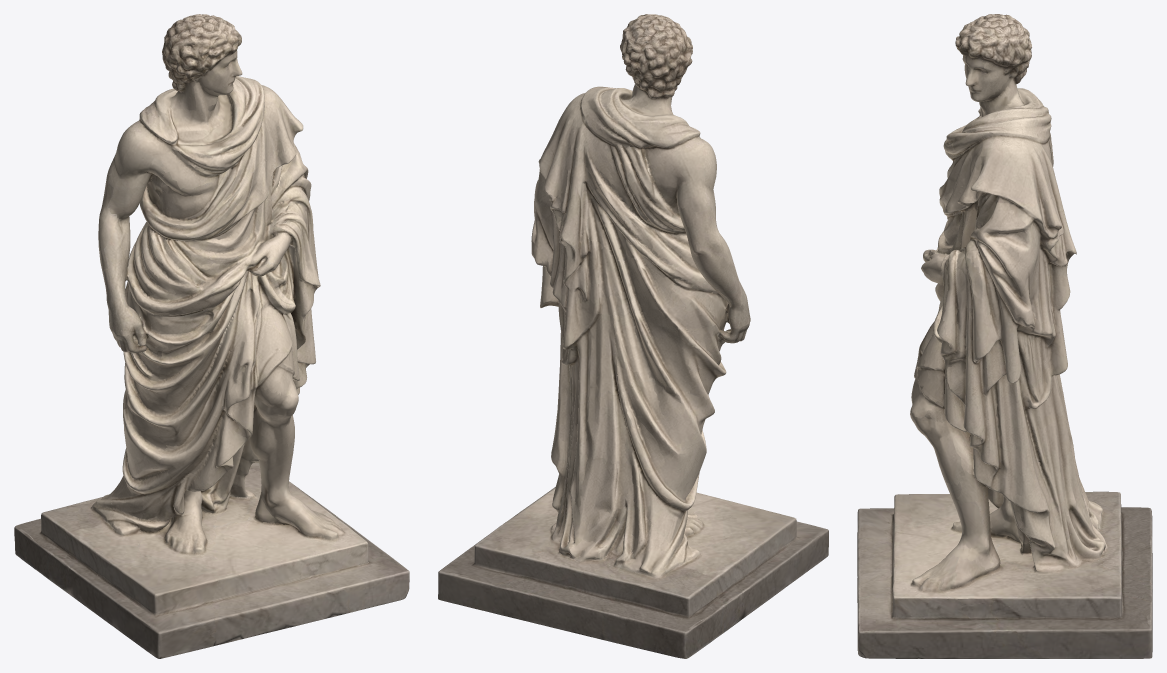
Rendered from wonder_colossus__marble-apollo.glb.
3 views of the same model, side by side, from view 1: azimuth 30°, elevation 25°; view 2: azimuth 150°, elevation 25°; view 3: azimuth 270°, elevation 25° (orthographic). The views are drawn at different scales.
Bounding box in the file's own units: 0.8914 × 1.9 × 0.8903.
1 material, 1 textured.
